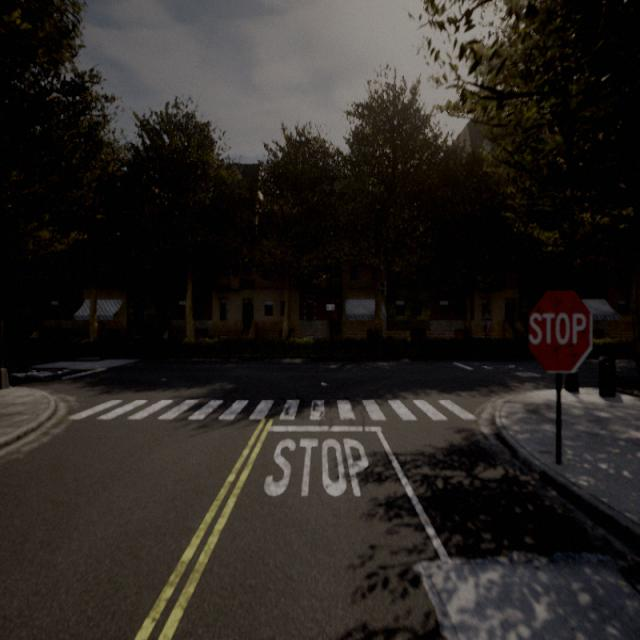stop sign: (524, 285, 594, 375), (527, 309, 587, 347)
